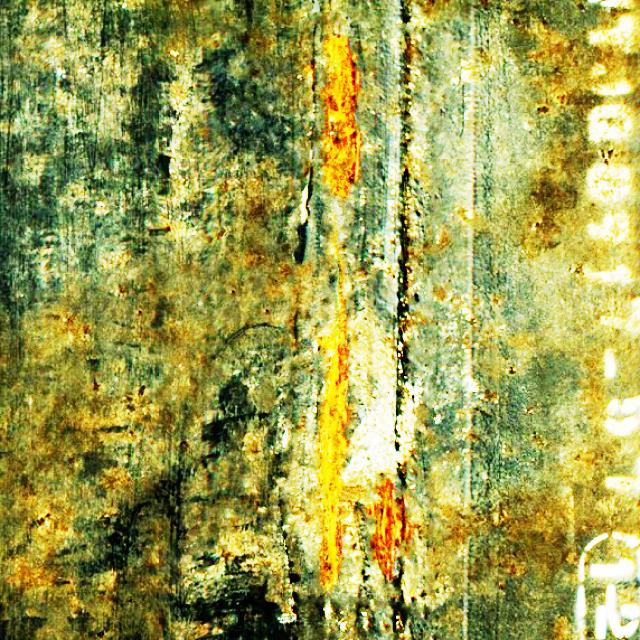Corrosion: (314, 282, 353, 589), (323, 34, 364, 200), (372, 481, 412, 584)
